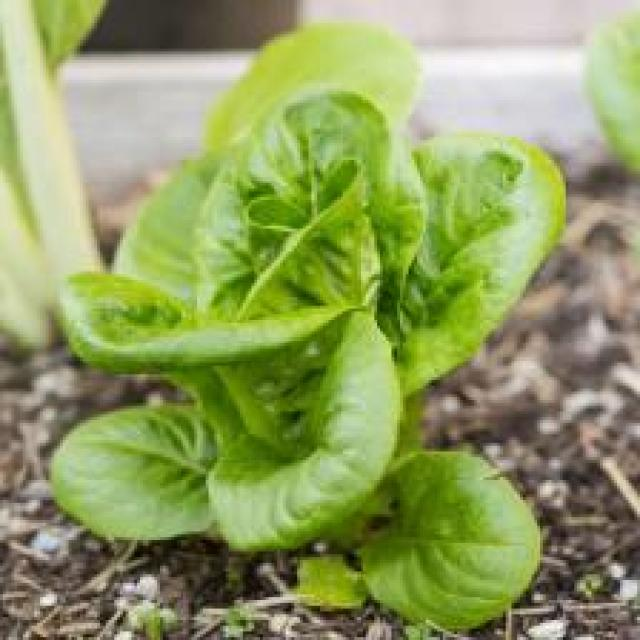Lettuce: (64, 48, 572, 623)
